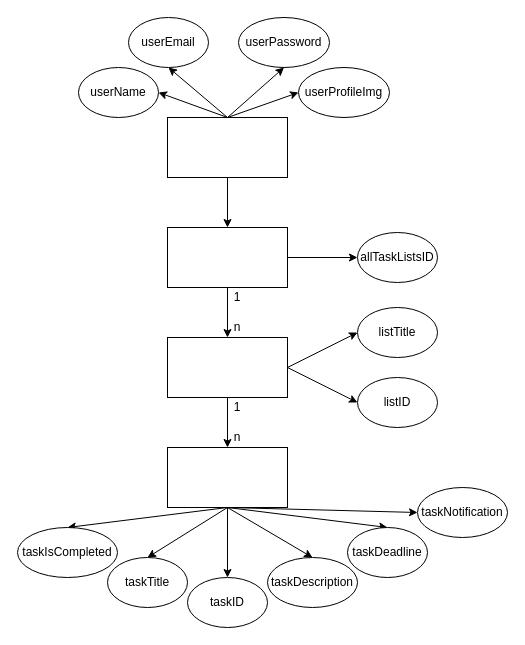
This 525x645 diagram has some shape labels left out. The shapes that lost their labels are listed below. From the top down, each one's centre as x and y in pixels, then its label:
the point at 227,147: User
the point at 227,257: AllTaskLists
the point at 227,367: TaskList
the point at 227,477: Task
